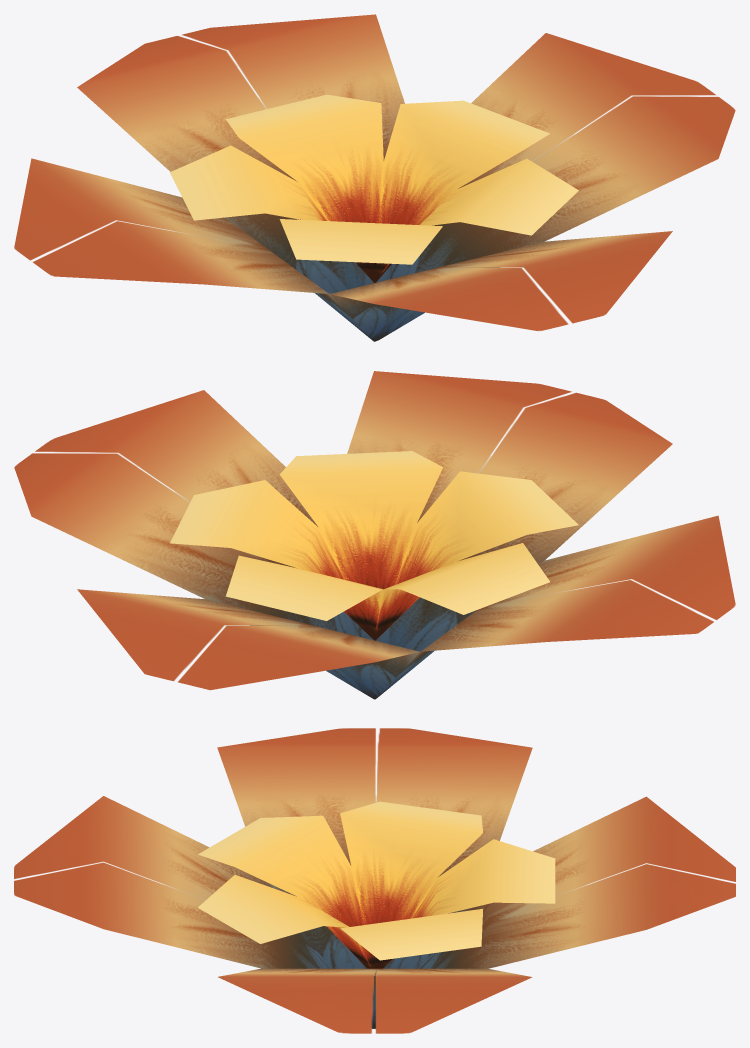
File: Flower5.glb
3 renders of one model, top to bottom at view 1: azimuth 30°, elevation 25°; view 2: azimuth 150°, elevation 25°; view 3: azimuth 270°, elevation 25°, orthographic. The views are drawn at different scales.
Visible parts, largest first — view 1: Flower Layer 2_Flowers_0; view 2: Flower Layer 2_Flowers_0; view 3: Flower Layer 2_Flowers_0.
Boxes of the visible parts, <box> form: Flower Layer 2_Flowers_0: <box>14,14,735,341</box>; Flower Layer 2_Flowers_0: <box>14,371,735,699</box>; Flower Layer 2_Flowers_0: <box>14,728,735,1033</box>.
Bounding box in the file's own units: 0.0748 × 0.0195 × 0.0748.
Materials: 1 (1 with a texture image).
